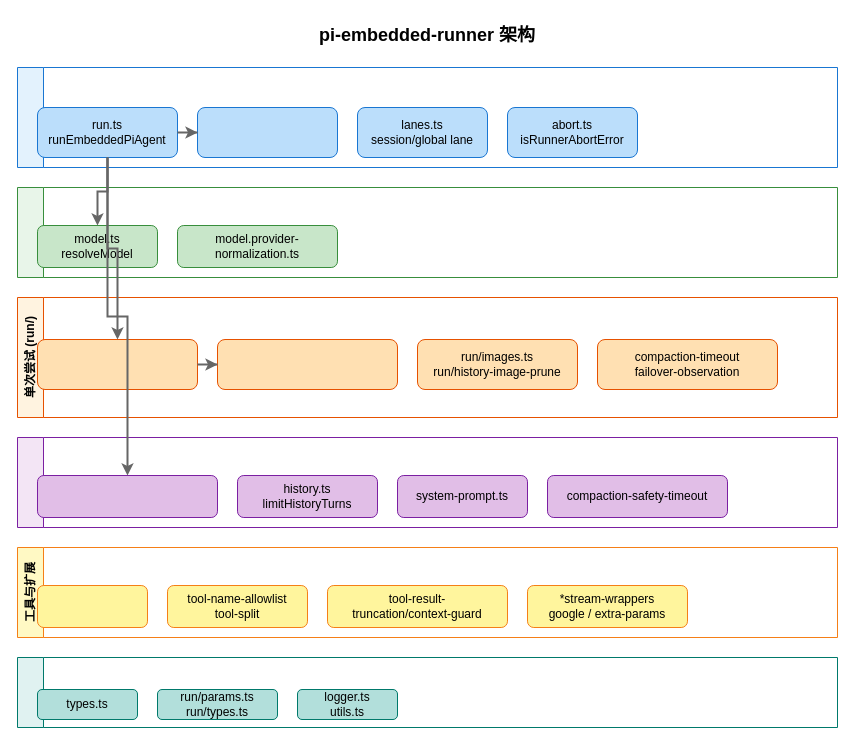
The diagram is 855 pixels wide and 745 high, and some of its shapes have lost their labels. Here are the shapes that lost their labels. From the top down, the box of each, then its label:
(196, 106, 338, 158): runs.ts 活跃运行注册/中止
(16, 66, 838, 168): 入口与调度
(16, 186, 838, 278): 模型与认证
(36, 338, 198, 390): run/attempt.ts runEmbeddedAttempt
(216, 338, 398, 390): run/payloads.ts buildEmbeddedRunPayloads
(36, 474, 218, 518): compact.ts compactEmbeddedPiSession
(16, 436, 838, 528): 压缩与历史
(36, 584, 148, 628): extensions.ts
(16, 656, 838, 728): 类型与公共
